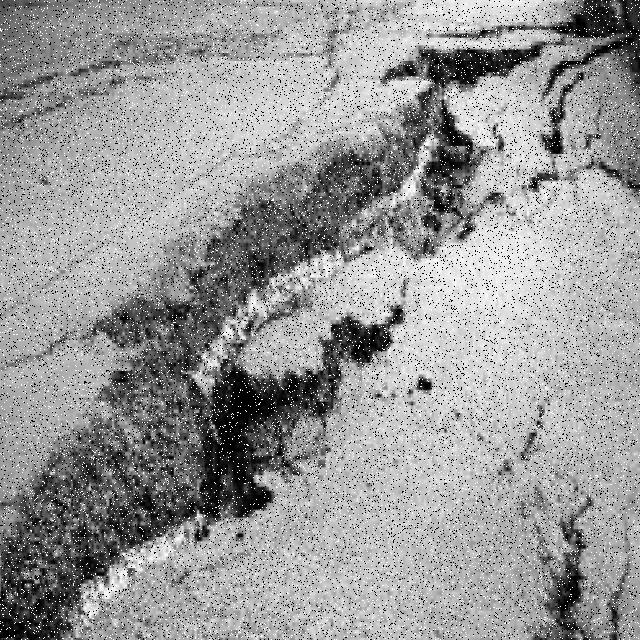pothole: (0, 49, 540, 640)
